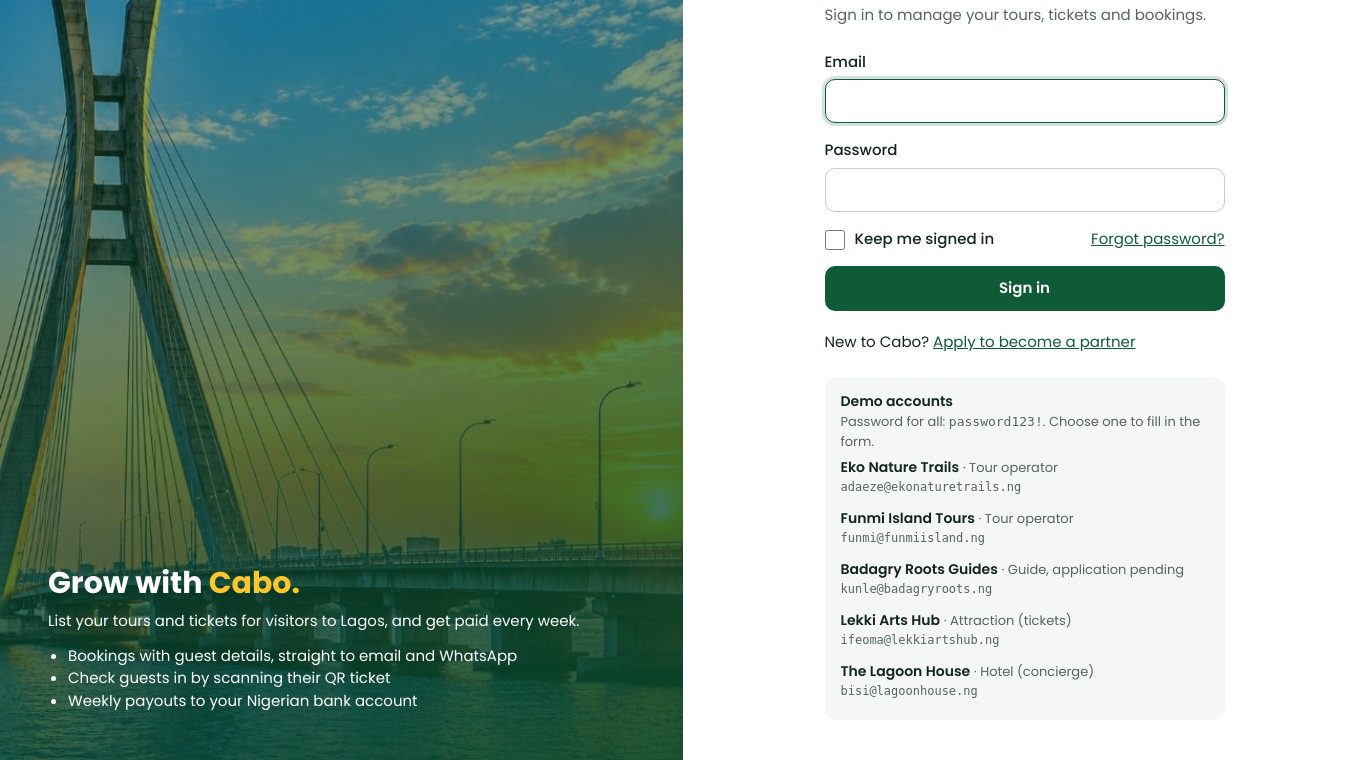
it: the portal › fills the form from a demo account
(page scrolled)
Click the button "Lekki Arts Hub · Attraction (tickets) ifeoma@lekkiartshub.ng". click: (1024, 630)
box: [840,604,1208,655]
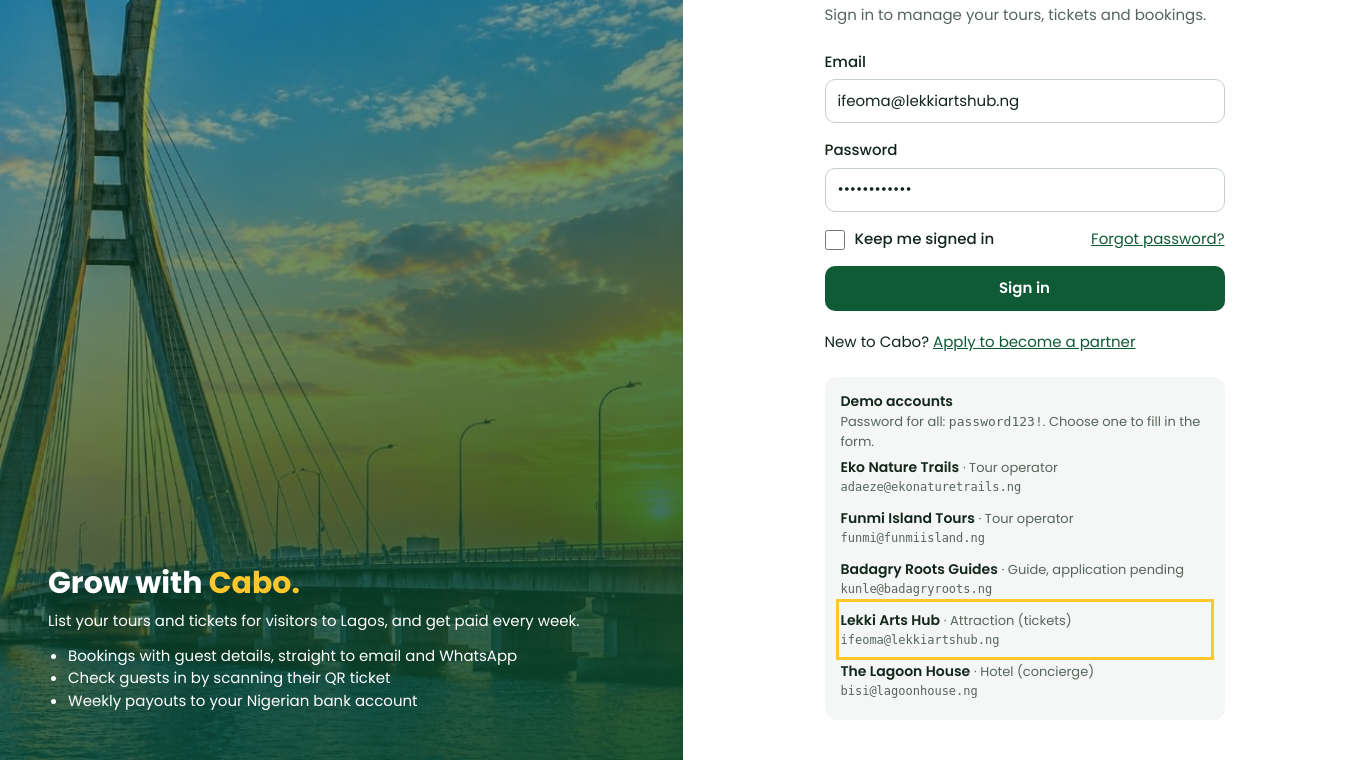
Expected: the field labelled "Email" holds "ifeoma@lekkiartshub.ng", [824,79,1224,123]
